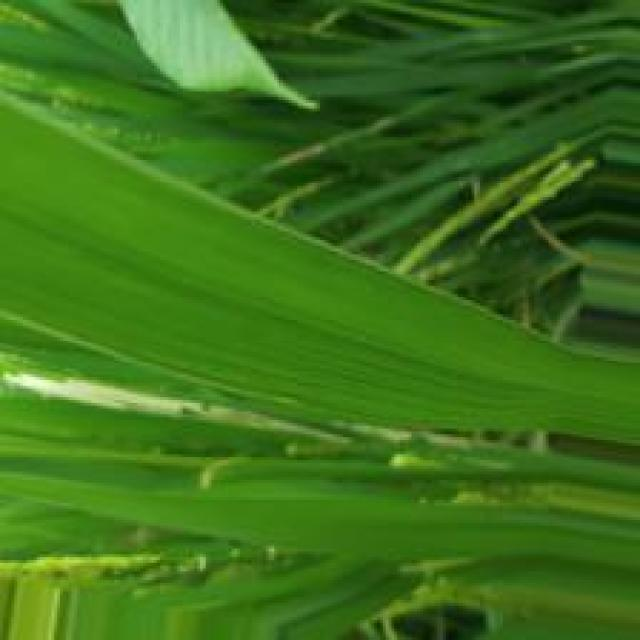HealthyLeaf: (6, 110, 528, 431)
